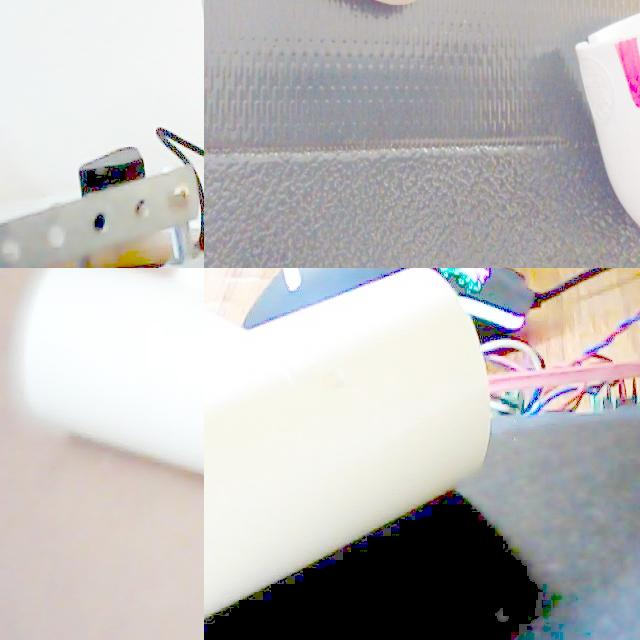Defective: (204, 137, 224, 183), (315, 194, 330, 226)
L Joint: (204, 120, 337, 268)
T Joint: (204, 268, 494, 623), (7, 268, 204, 481)
